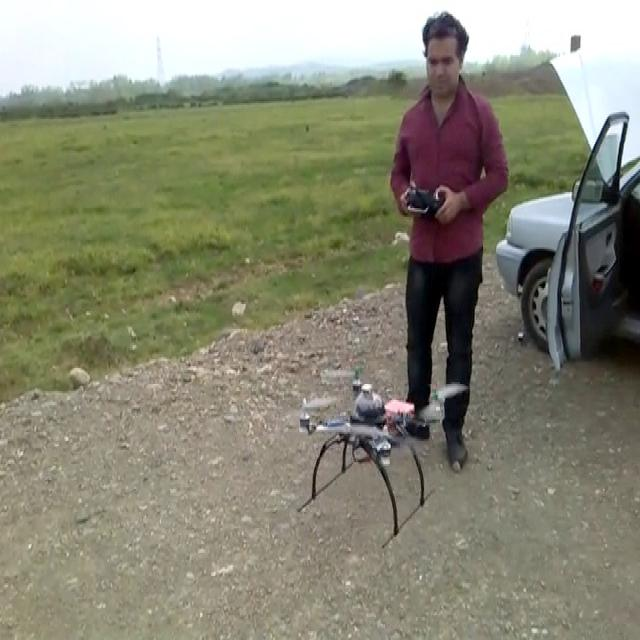drone: (280, 361, 467, 547)
